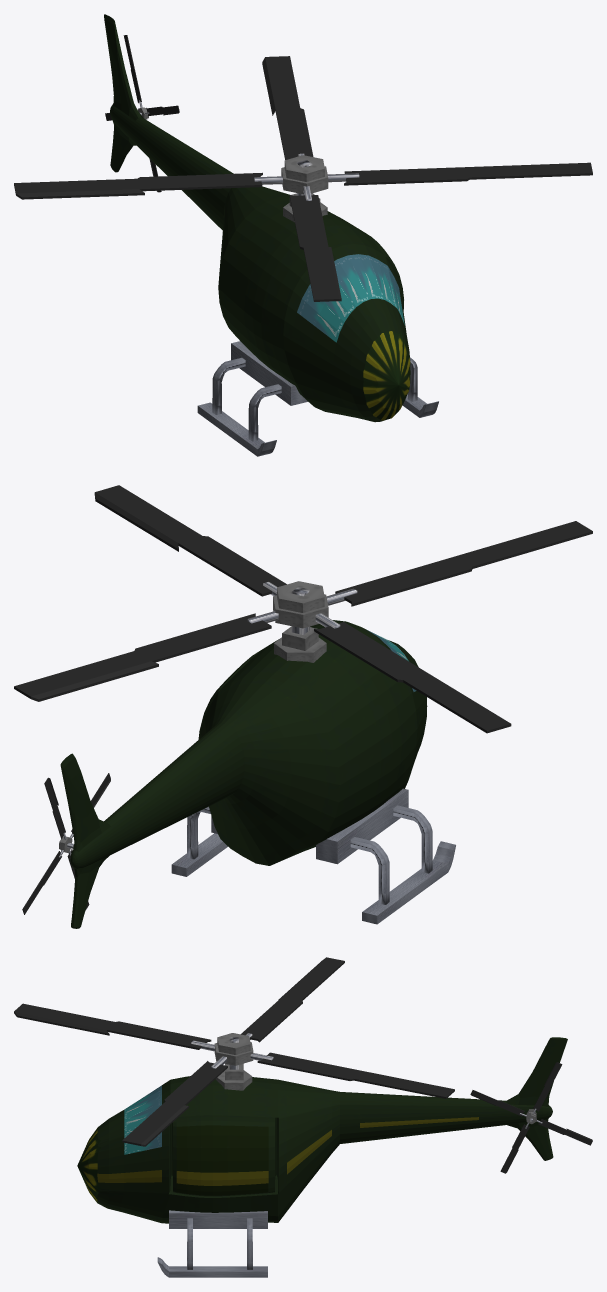
File: helicopter.fbx
3 views of the same model, one above another, from view 1: azimuth 30°, elevation 25°; view 2: azimuth 150°, elevation 25°; view 3: azimuth 270°, elevation 25° (orthographic). The views are drawn at different scales.
Visible parts, largest first — view 1: HELIMAIN, Cube.003, propeller1, propeller3, propeller4, propeller2, PROPELLERTOP2, PROPELLERTOP1; view 2: HELIMAIN, Cube.003, propeller2, propeller3, propeller4, propeller1, PROPELLERTOP2, PROPELLERTOP1, PROPELLERBASE1, PROPELLERBASE2; view 3: HELIMAIN, Cube.003, propeller4, propeller3, propeller2, propeller1, PROPELLERTOP2, PROPELLERTOP1.
Part boxes in pixels (x1,y1,x2,y2): HELIMAIN: [104, 14, 410, 422]; Cube.003: [197, 341, 438, 456]; propeller1: [14, 172, 262, 199]; propeller3: [344, 162, 592, 185]; propeller4: [289, 195, 341, 301]; propeller2: [262, 56, 313, 159]; PROPELLERTOP2: [284, 155, 324, 181]; PROPELLERTOP1: [281, 166, 328, 194]; HELIMAIN: [60, 620, 427, 928]; Cube.003: [171, 788, 455, 924]; propeller2: [14, 613, 271, 701]; propeller3: [94, 485, 286, 596]; propeller4: [335, 521, 592, 606]; propeller1: [314, 622, 511, 733]; PROPELLERTOP2: [277, 581, 324, 612]; PROPELLERTOP1: [273, 594, 328, 628]; PROPELLERBASE1: [274, 637, 326, 662]; PROPELLERBASE2: [282, 626, 318, 650]; HELIMAIN: [77, 1037, 567, 1223]; Cube.003: [157, 1210, 267, 1277]; propeller4: [14, 1003, 211, 1049]; propeller3: [122, 1061, 227, 1146]; propeller2: [257, 1052, 454, 1098]; propeller1: [241, 957, 344, 1042]; PROPELLERTOP2: [217, 1033, 250, 1054]; PROPELLERTOP1: [214, 1042, 253, 1065].
Size of the model in its own units: 580 by 297 by 759.
